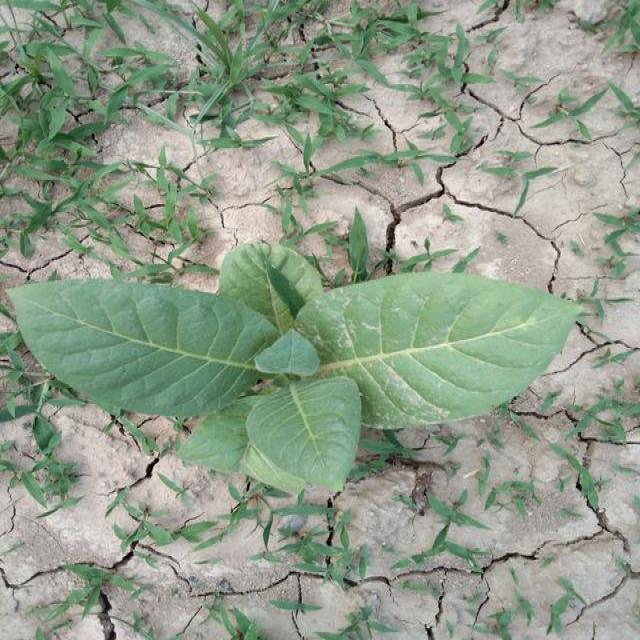crop: (3, 246, 584, 493)
